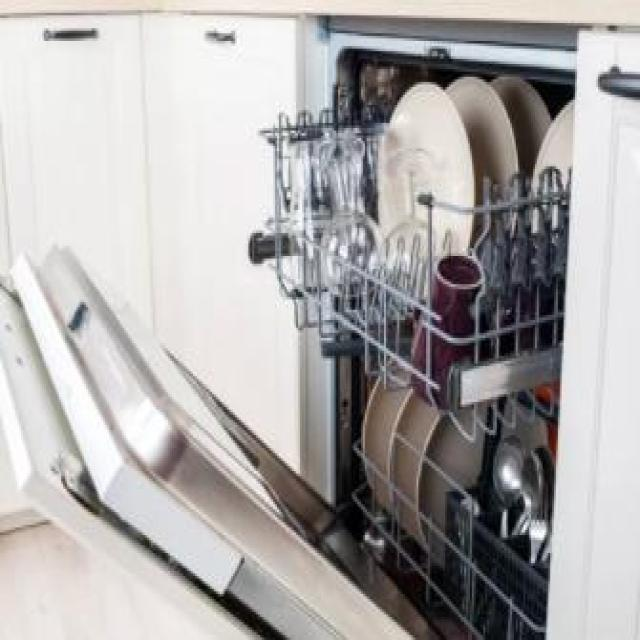dishwasher: (0, 17, 590, 637)
